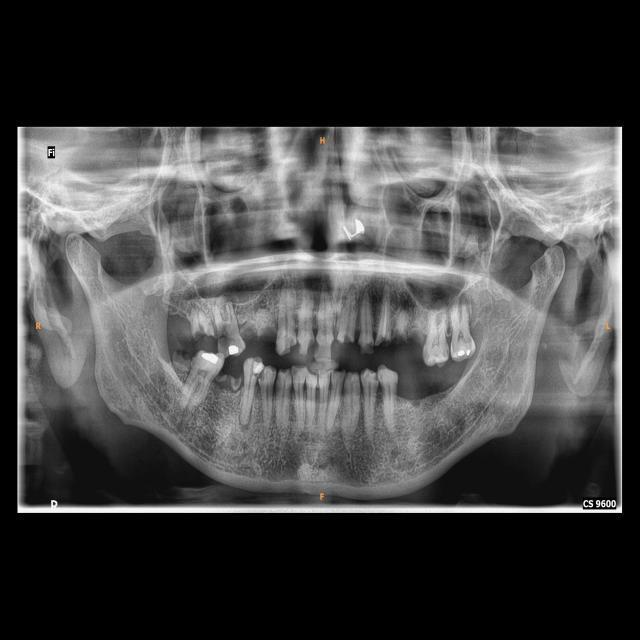dentin-curugu: (214, 323, 233, 347), (358, 330, 374, 355), (283, 334, 299, 356), (301, 337, 317, 353)
dolgu: (197, 345, 221, 371), (247, 356, 267, 382), (455, 345, 473, 361), (222, 344, 243, 356)
kanal-tedavisi: (377, 293, 390, 333)
kirik: (186, 320, 215, 342), (392, 329, 424, 345), (337, 331, 356, 349), (376, 330, 391, 351)
